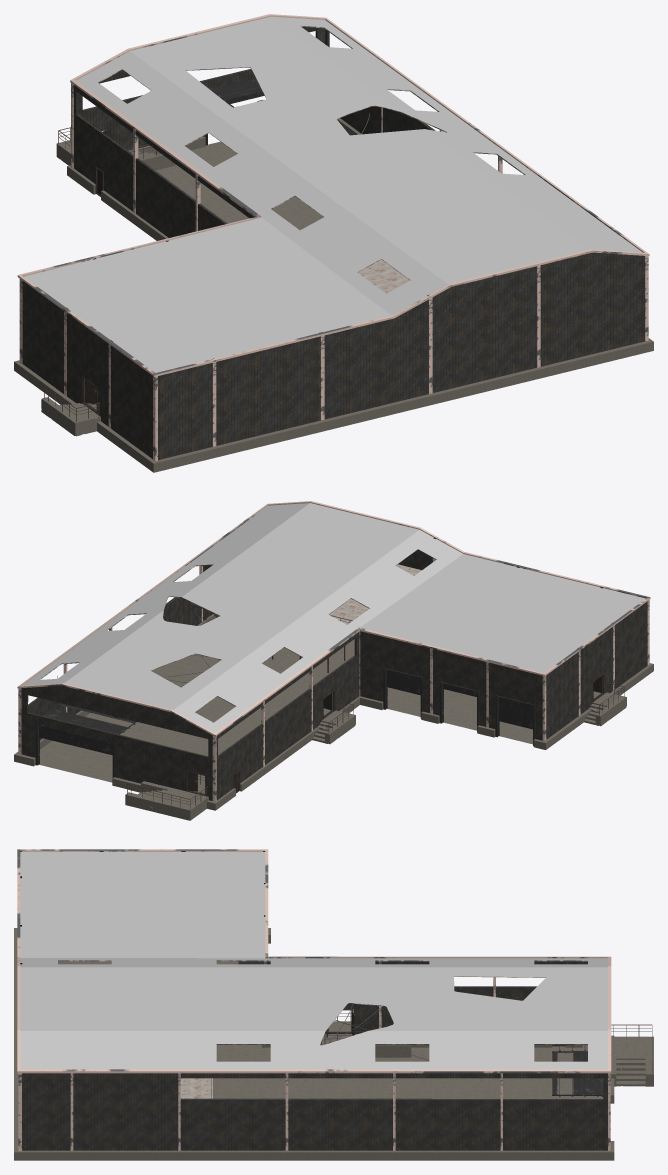
Rendered from warehouse.fbx.
3 views of the same model, one above another, from view 1: azimuth 30°, elevation 25°; view 2: azimuth 150°, elevation 25°; view 3: azimuth 270°, elevation 25° (orthographic). The views are drawn at different scales.
Visible parts, largest first — view 1: Roof, WarehouseWalls, WarehouseBase, SideSupportBeam, Floor, ConcreteSteps, MainGate.001, Walkway.001; view 2: Roof, WarehouseWalls, Floor, ConcreteSteps, WarehouseBase, SideSupportBeam, MainGate.001, SmallGateVar1, SmallGateVar2, Walkway.001, Railings, SmallGateVar3; view 3: Roof, WarehouseWalls, Floor, WarehouseBase, ConcreteSteps, SideSupportBeam, MainGate.001, Walkway.001.
Part boxes in pixels (x1,y1,x2,y2): Roof: (17, 14, 649, 376); WarehouseWalls: (22, 27, 644, 459); WarehouseBase: (14, 118, 653, 472); SideSupportBeam: (19, 83, 648, 461); Floor: (155, 141, 323, 229); ConcreteSteps: (41, 140, 176, 436); MainGate.001: (204, 77, 264, 145); Walkway.001: (358, 259, 409, 293); Roof: (17, 501, 650, 736); WarehouseWalls: (21, 550, 647, 800); Floor: (39, 639, 532, 784); ConcreteSteps: (125, 691, 626, 820); WarehouseBase: (14, 614, 653, 810); SideSupportBeam: (18, 537, 649, 801); MainGate.001: (35, 676, 136, 777); SmallGateVar1: (495, 695, 535, 745); SmallGateVar2: (383, 668, 422, 718); Walkway.001: (188, 564, 421, 672); Railings: (127, 682, 624, 809); SmallGateVar3: (439, 681, 479, 731); Roof: (17, 849, 611, 1073); WarehouseWalls: (22, 961, 607, 1150); Floor: (58, 961, 603, 1098); WarehouseBase: (14, 928, 614, 1160); ConcreteSteps: (322, 1021, 653, 1086); SideSupportBeam: (18, 851, 610, 1151); MainGate.001: (552, 1045, 603, 1096); Walkway.001: (180, 1078, 212, 1098).
Size of the model in its own units: 12457 by 2589 by 14390.
